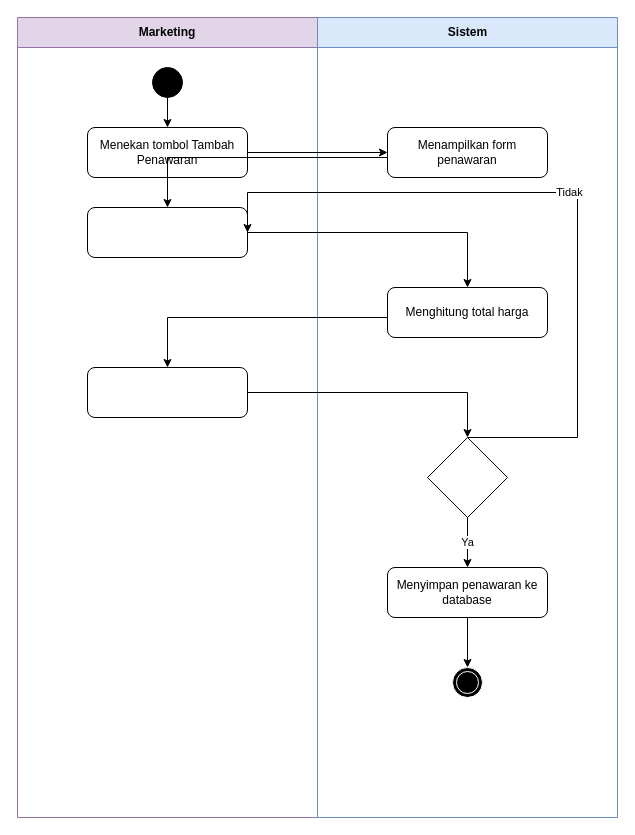
The diagram is 635 pixels wide and 835 high, and some of its shapes have lost their labels. Here are the shapes that lost their labels. From the top down, the centre of each, then its label:
pixel 167 232: Memilih prospek dan mengisi item produk
pixel 167 392: Menekan tombol Simpan
pixel 467 477: Data Valid?
